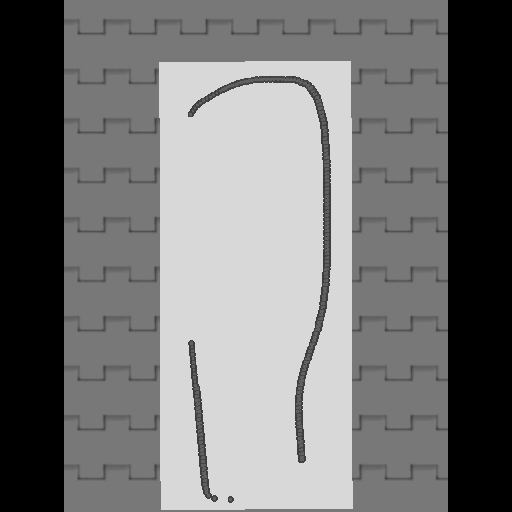Defect: (181, 110, 202, 345)
